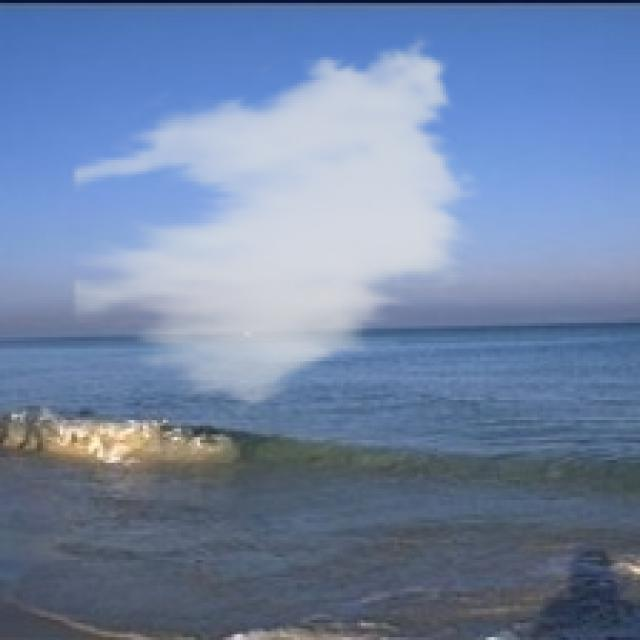Smoke: (71, 29, 483, 418)
